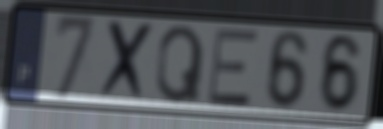6: (314, 32, 367, 116), (263, 28, 310, 114)
7: (52, 12, 99, 103)
E: (206, 28, 260, 109)
Q: (154, 22, 207, 106)
X: (95, 17, 158, 106)
